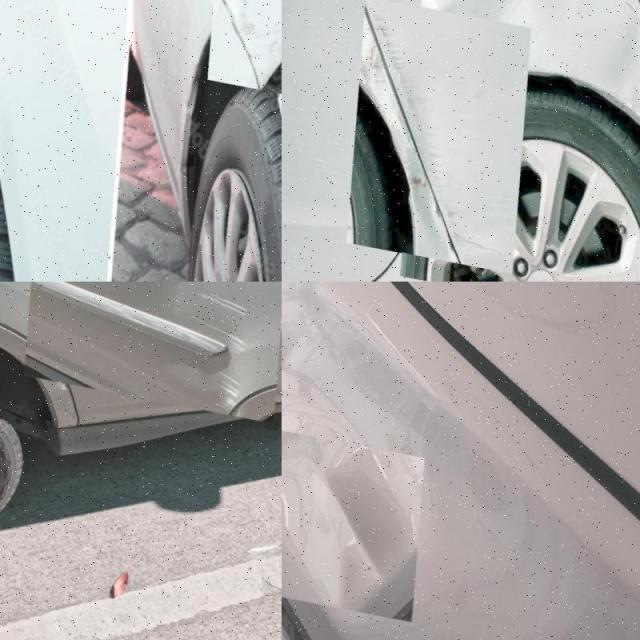car damage: (269, 359, 426, 613), (357, 0, 407, 111)
